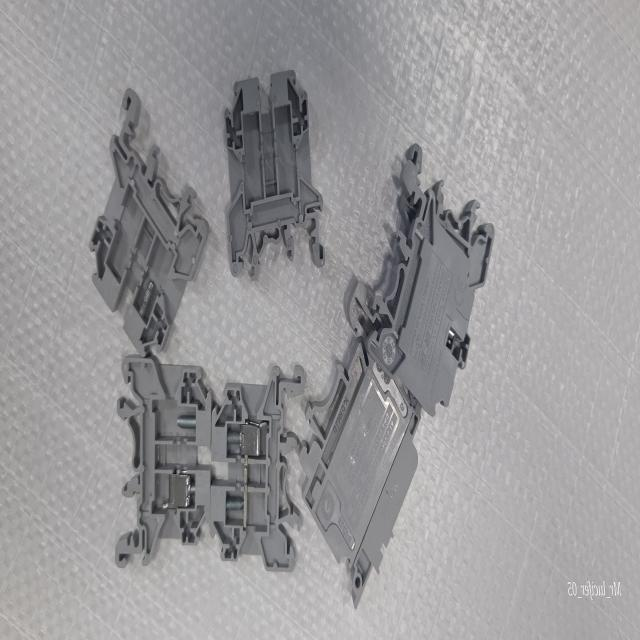Reject: (80, 82, 223, 355), (220, 49, 330, 290), (106, 350, 219, 578), (214, 358, 316, 576)
